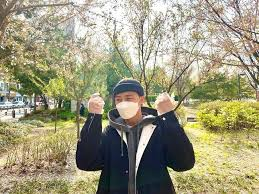mask: (115, 101, 138, 119)
